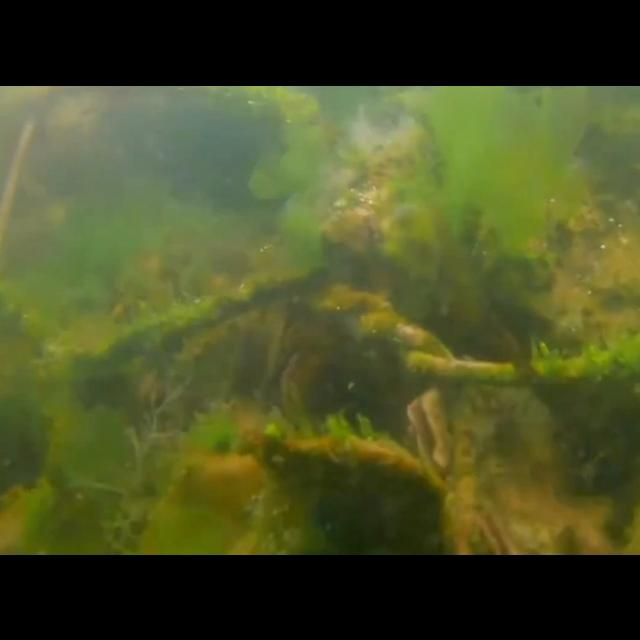Oyster-Closed: (254, 428, 458, 554)
Oyster-Open: (401, 388, 461, 480), (250, 346, 316, 424), (462, 492, 516, 554)
